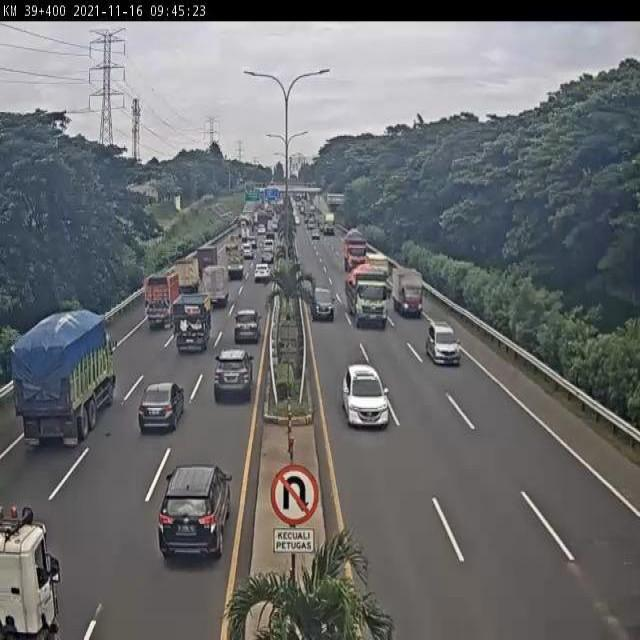car: (157, 469, 228, 562), (343, 364, 387, 428), (138, 381, 183, 432), (212, 349, 254, 399), (428, 324, 462, 368), (234, 305, 260, 343), (308, 284, 335, 320)
small truck: (393, 265, 424, 316), (203, 266, 229, 306), (174, 256, 202, 289)
truck-l-: (14, 319, 119, 440), (347, 272, 395, 335)
truck-m-: (146, 268, 182, 333), (175, 291, 213, 348)
